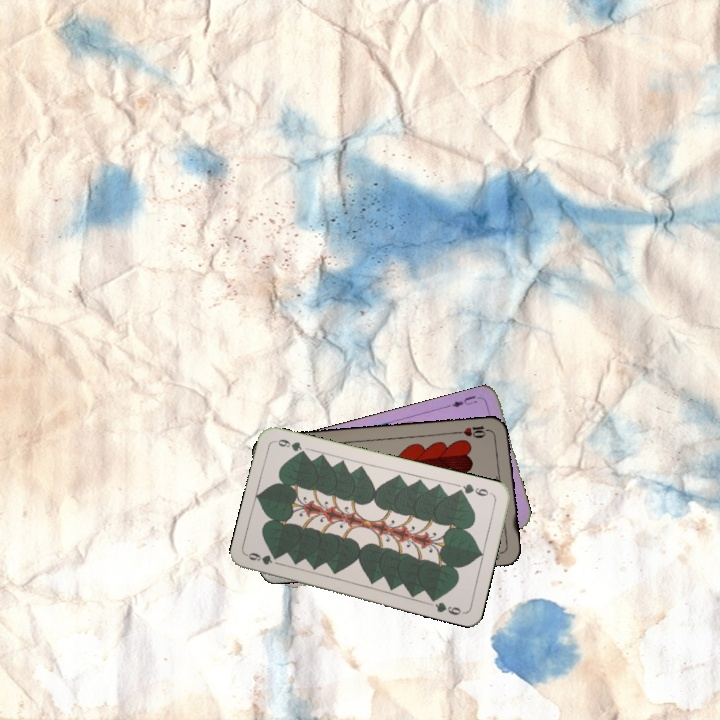EU: (444, 391, 480, 410)
G9: (454, 480, 495, 499), (244, 548, 279, 567)
H10: (453, 421, 494, 441)
